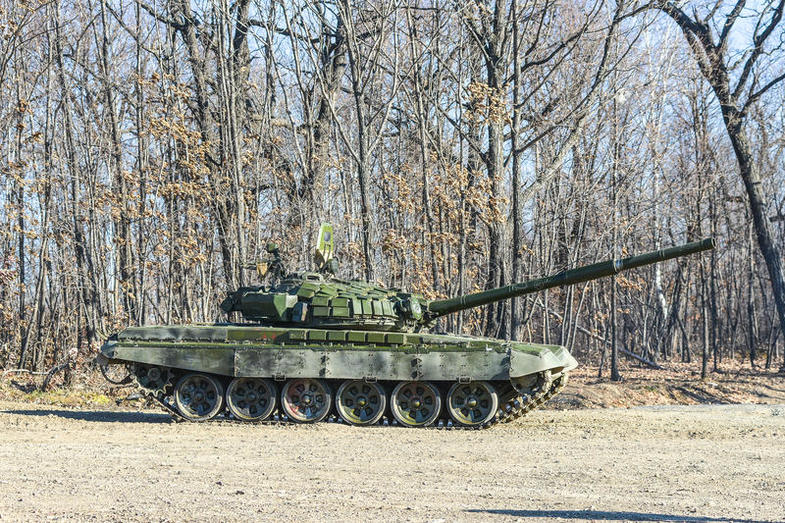t72: (104, 234, 710, 424)
